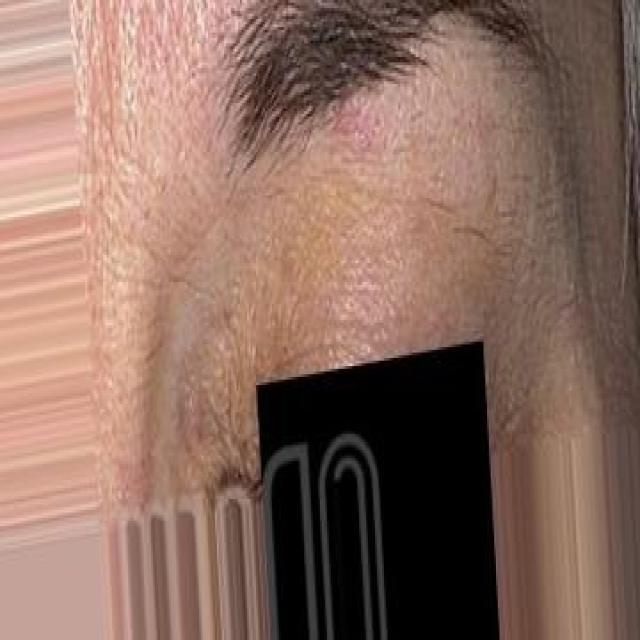Rosacea: (324, 84, 392, 156)
